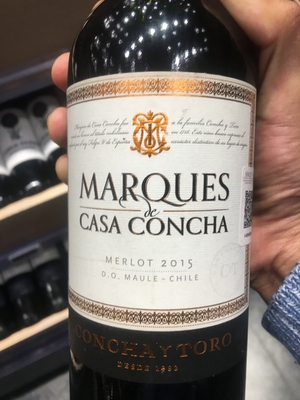marques de casa concha merlot: (54, 20, 263, 400)
